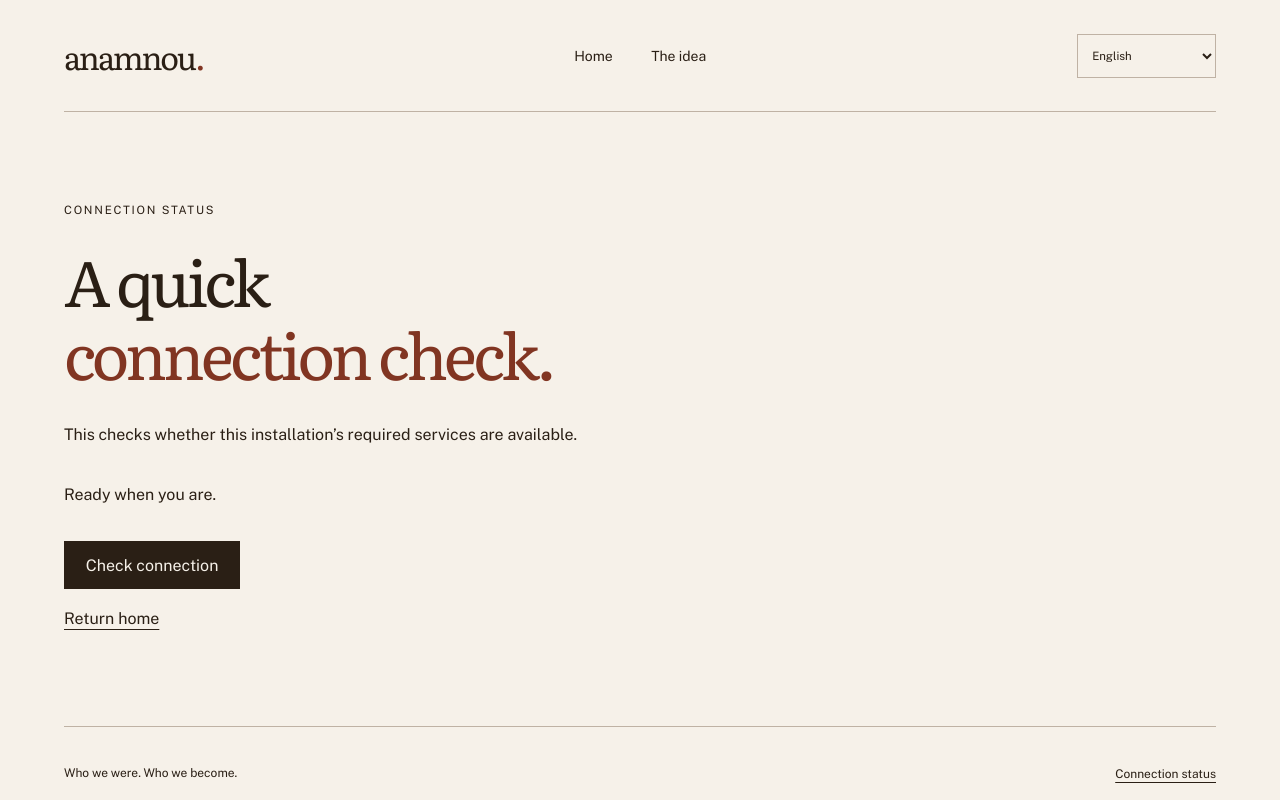
Test case: foundation shell › shows loading, failure, retry and a verified response
Click the button "Check connection": click(152, 565) 64,541 -> 240,589
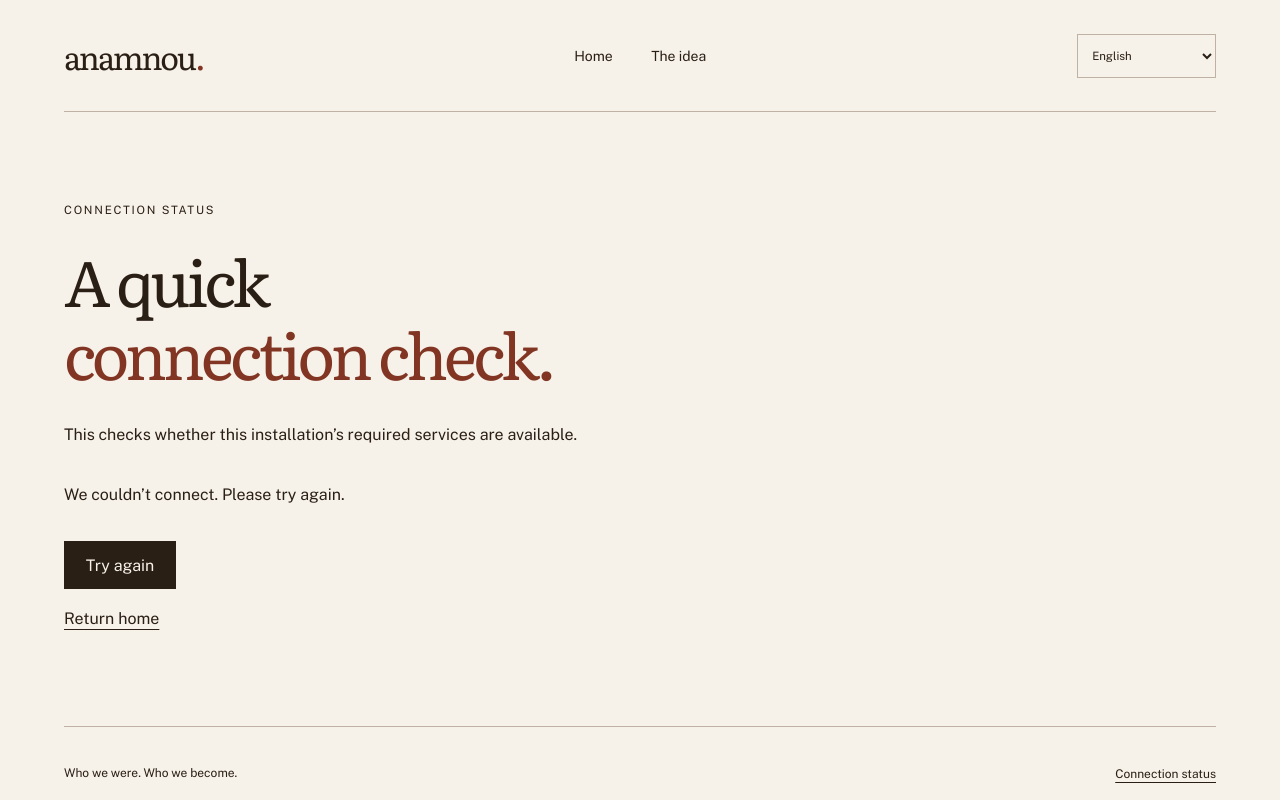
Expected: the button "Try again" is shown
Click the button "Try again": click(120, 565) 64,541 -> 176,589
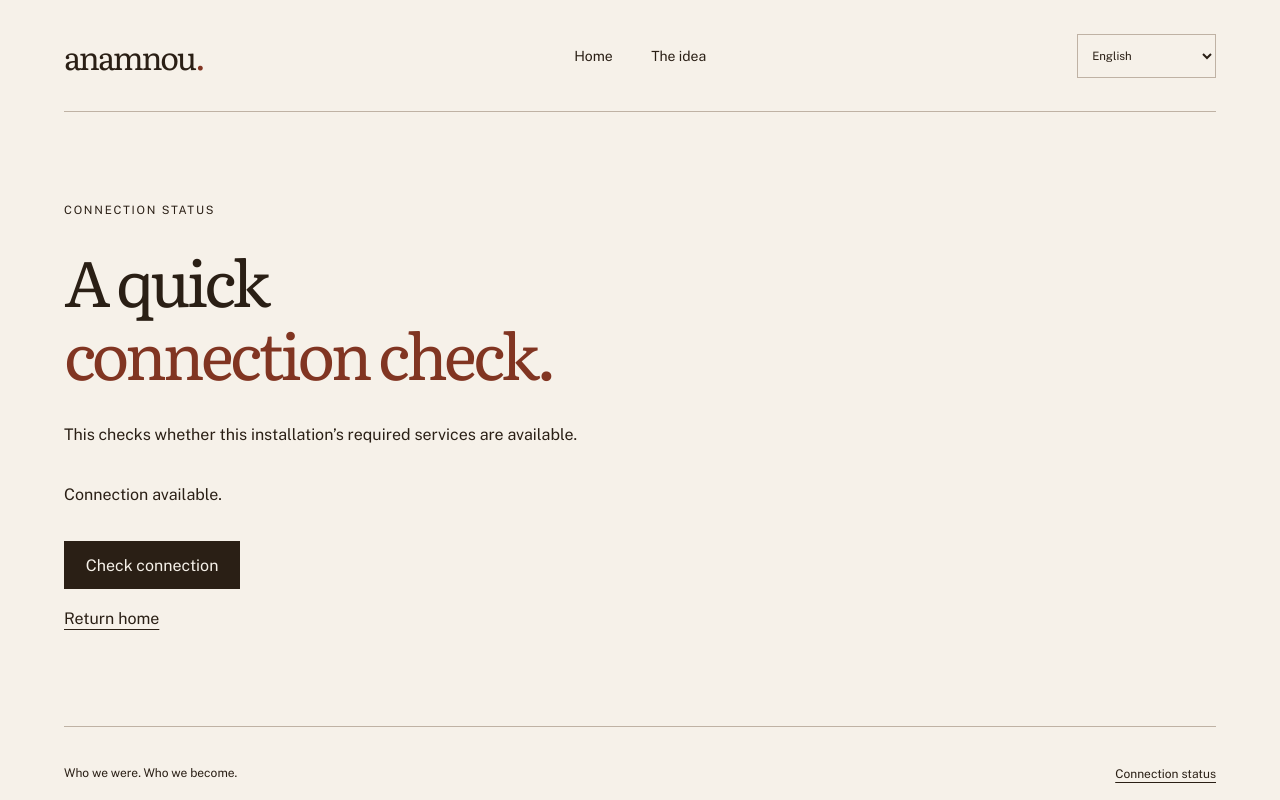
Expected: the text "Connection available." is shown, 64,485 -> 222,504
